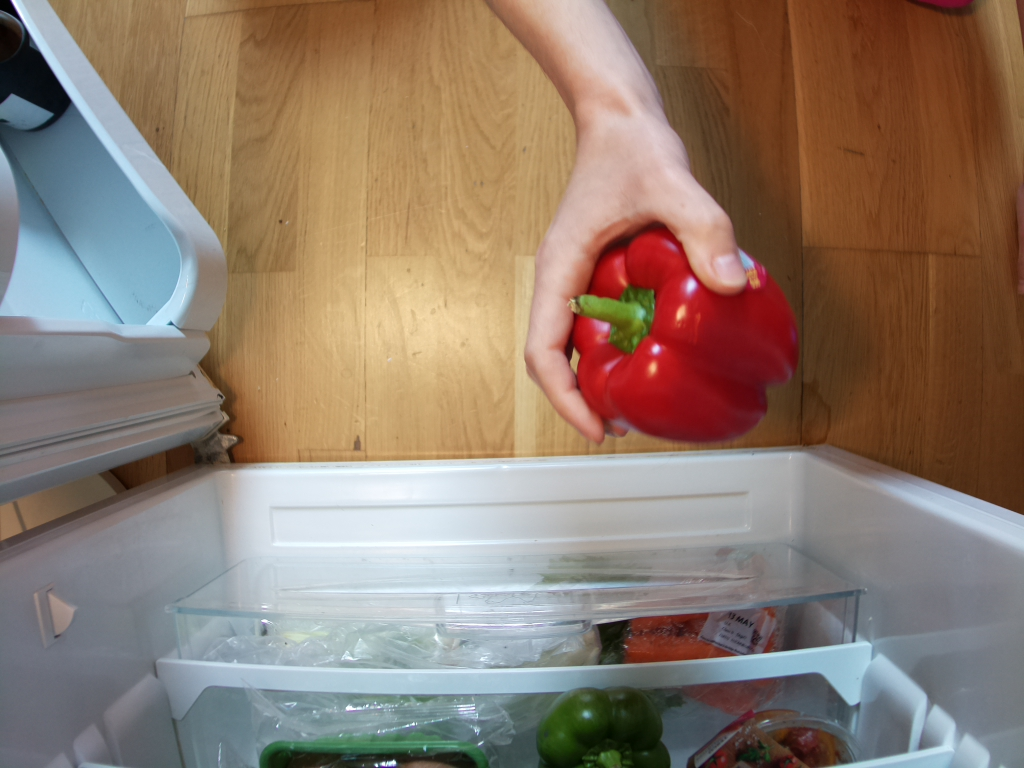pepper: (569, 229, 802, 446), (539, 685, 669, 768)
